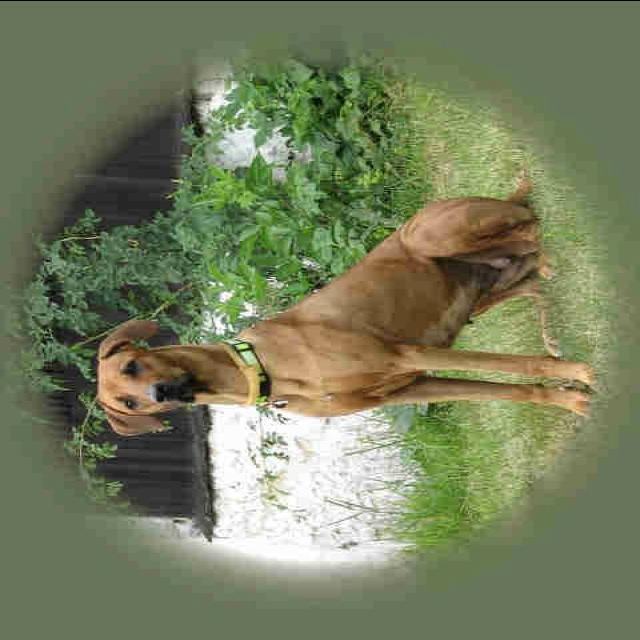rhodesian_ridgeback: (89, 172, 603, 441)
